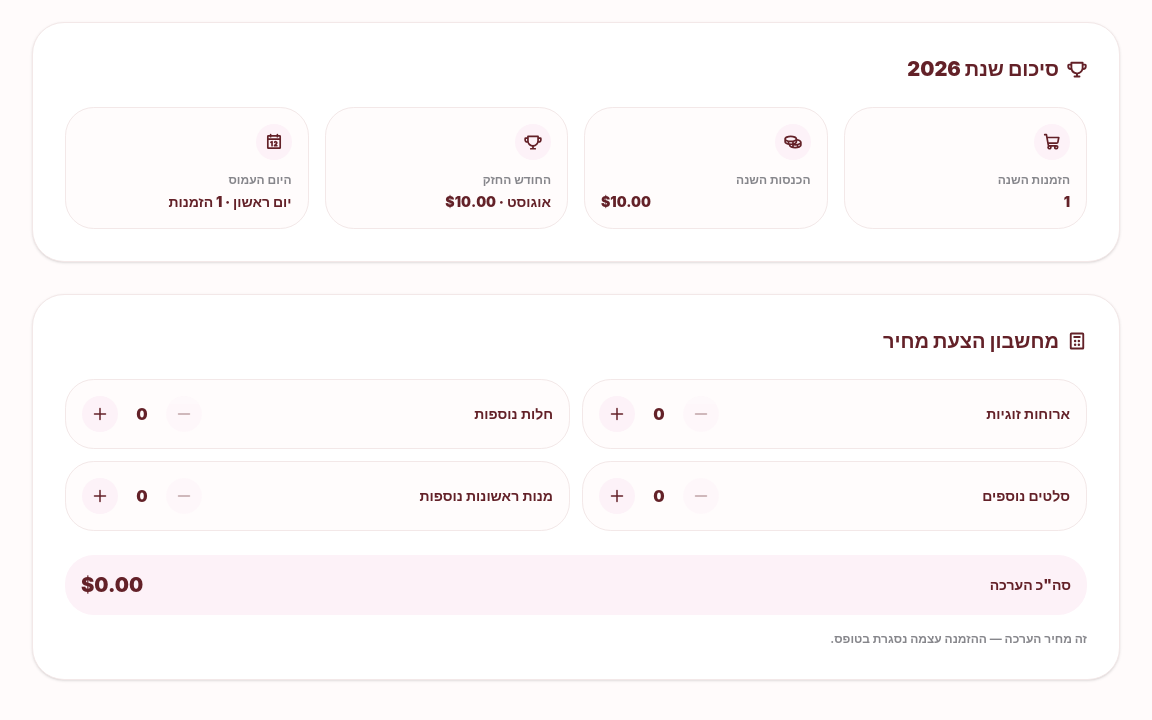
Scenario: InsightsScreen › computes a live estimate in the quick quote calculator from menu prices
(page scrolled)
Expected: the text "$0.00" is shown, [81,571,143,599]
Expected: the text "זה מחיר הערכה — ההזמנה עצמה נסגרת בטופס." is shown, [830,631,1087,646]
Click the button named "הוספת ארוחות זוגיות" at (617, 414), box [599,396,635,432]
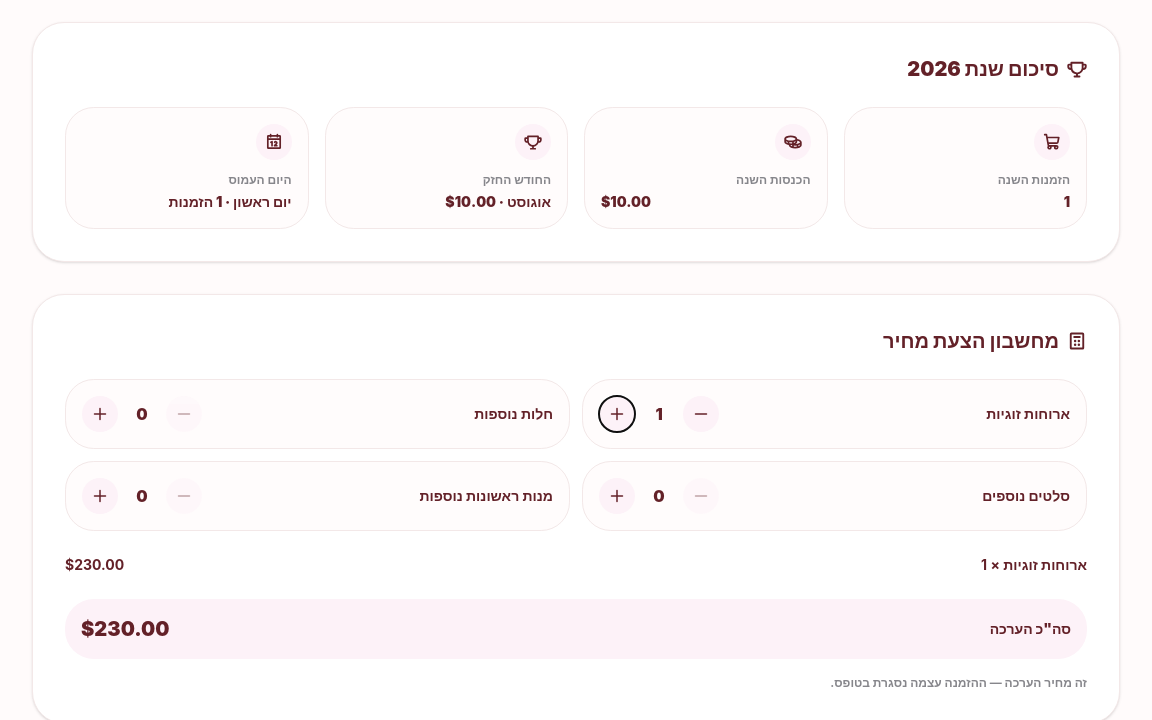
Click the button named "הוספת ארוחות זוגיות" at (617, 414), box [599,396,635,432]
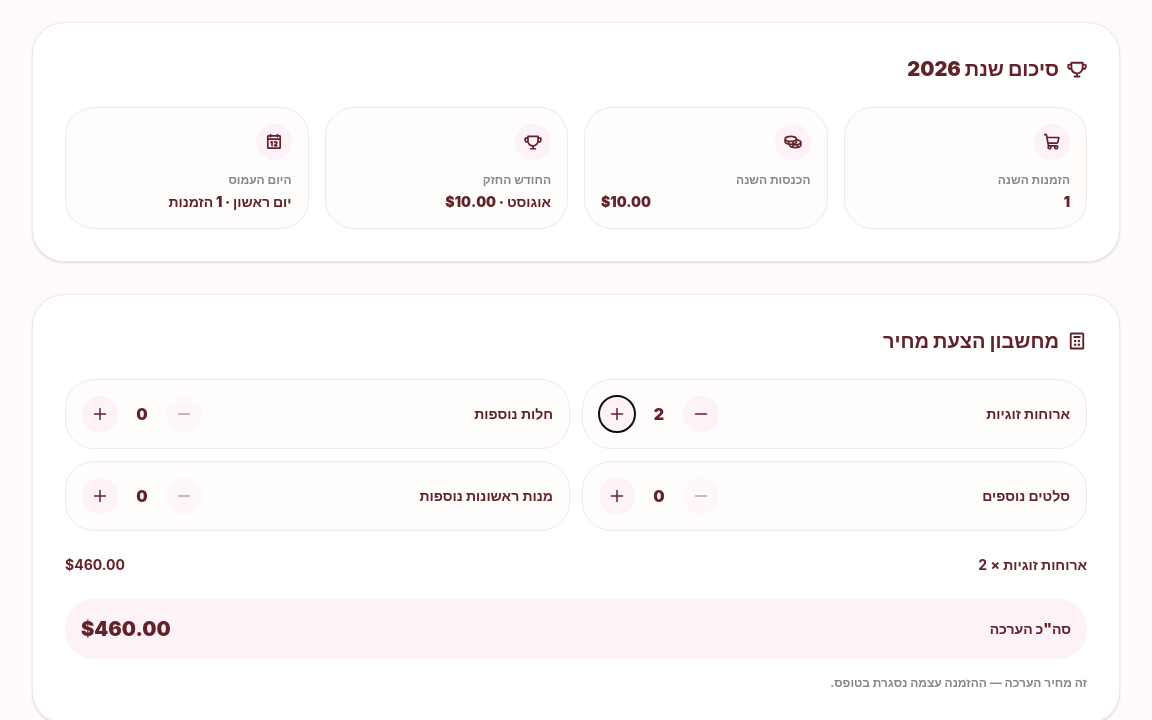
Click the button named "הוספת חלות נוספות" at (100, 414), box [82,396,118,432]
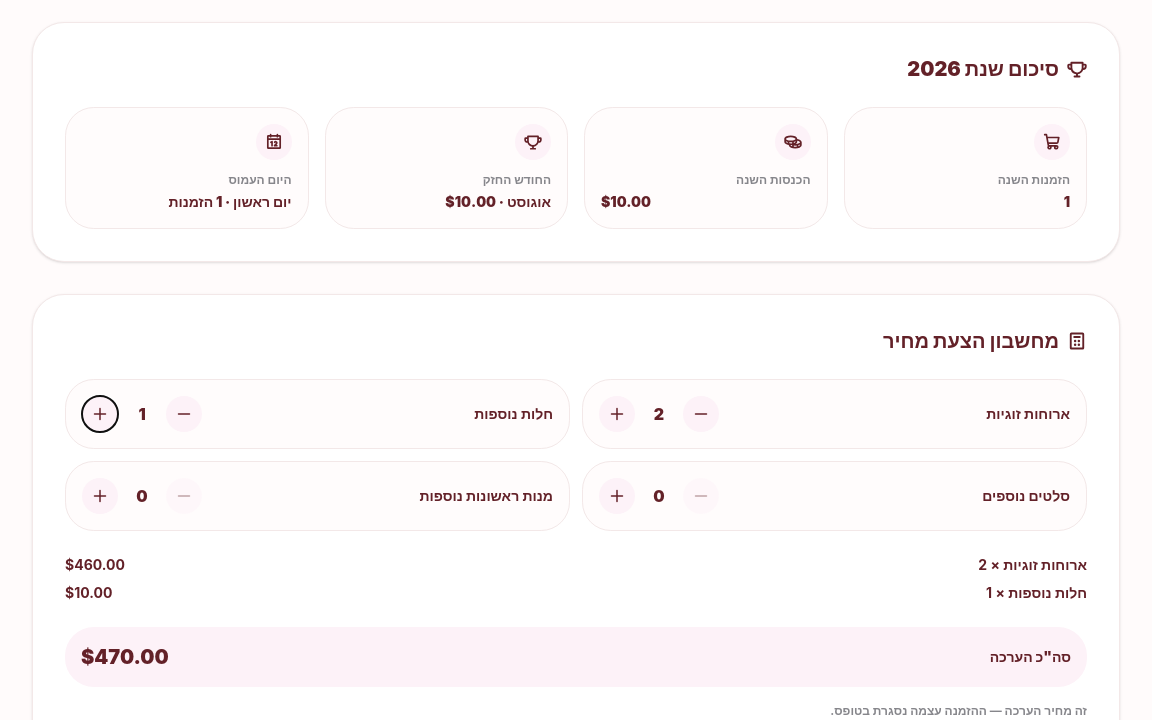
Expected: the text "$460.00" is shown, [65,555,125,575]
Expected: the text "$470.00" is shown, [81,643,169,671]
Click the button named "הפחתת חלות נוספות" at (184, 414), box [166,396,202,432]
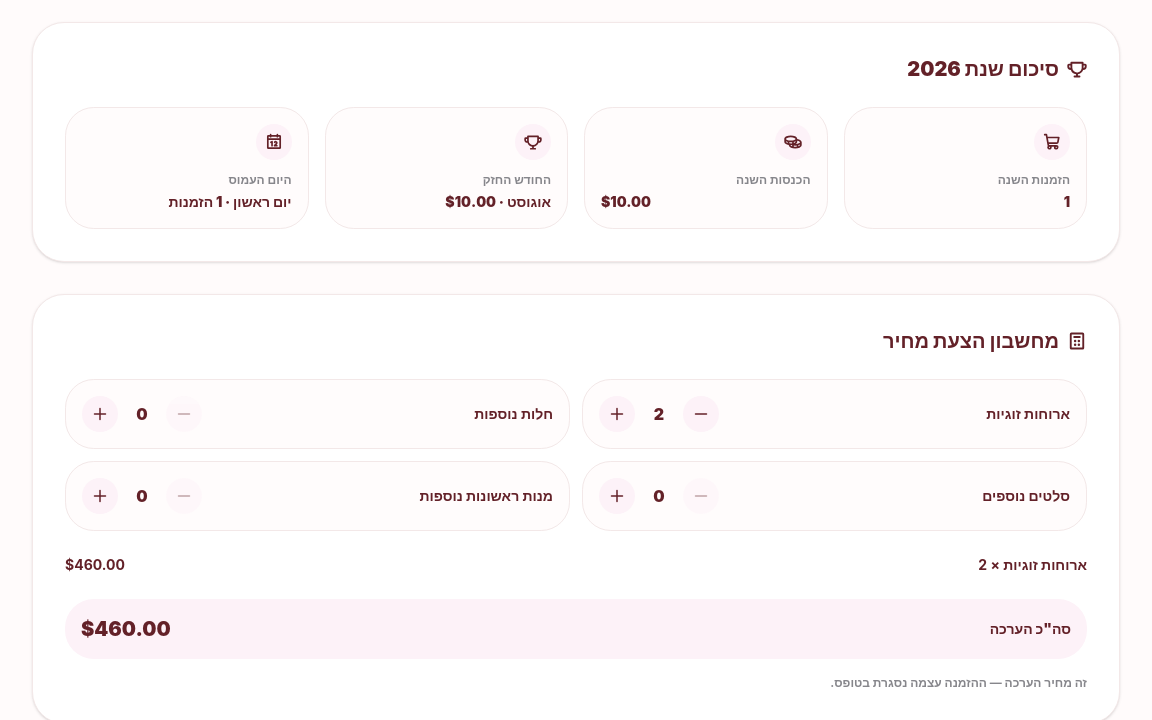
Expected: the text "$460.00" is shown 2 times, [65,555,125,575]; [81,615,171,643]
